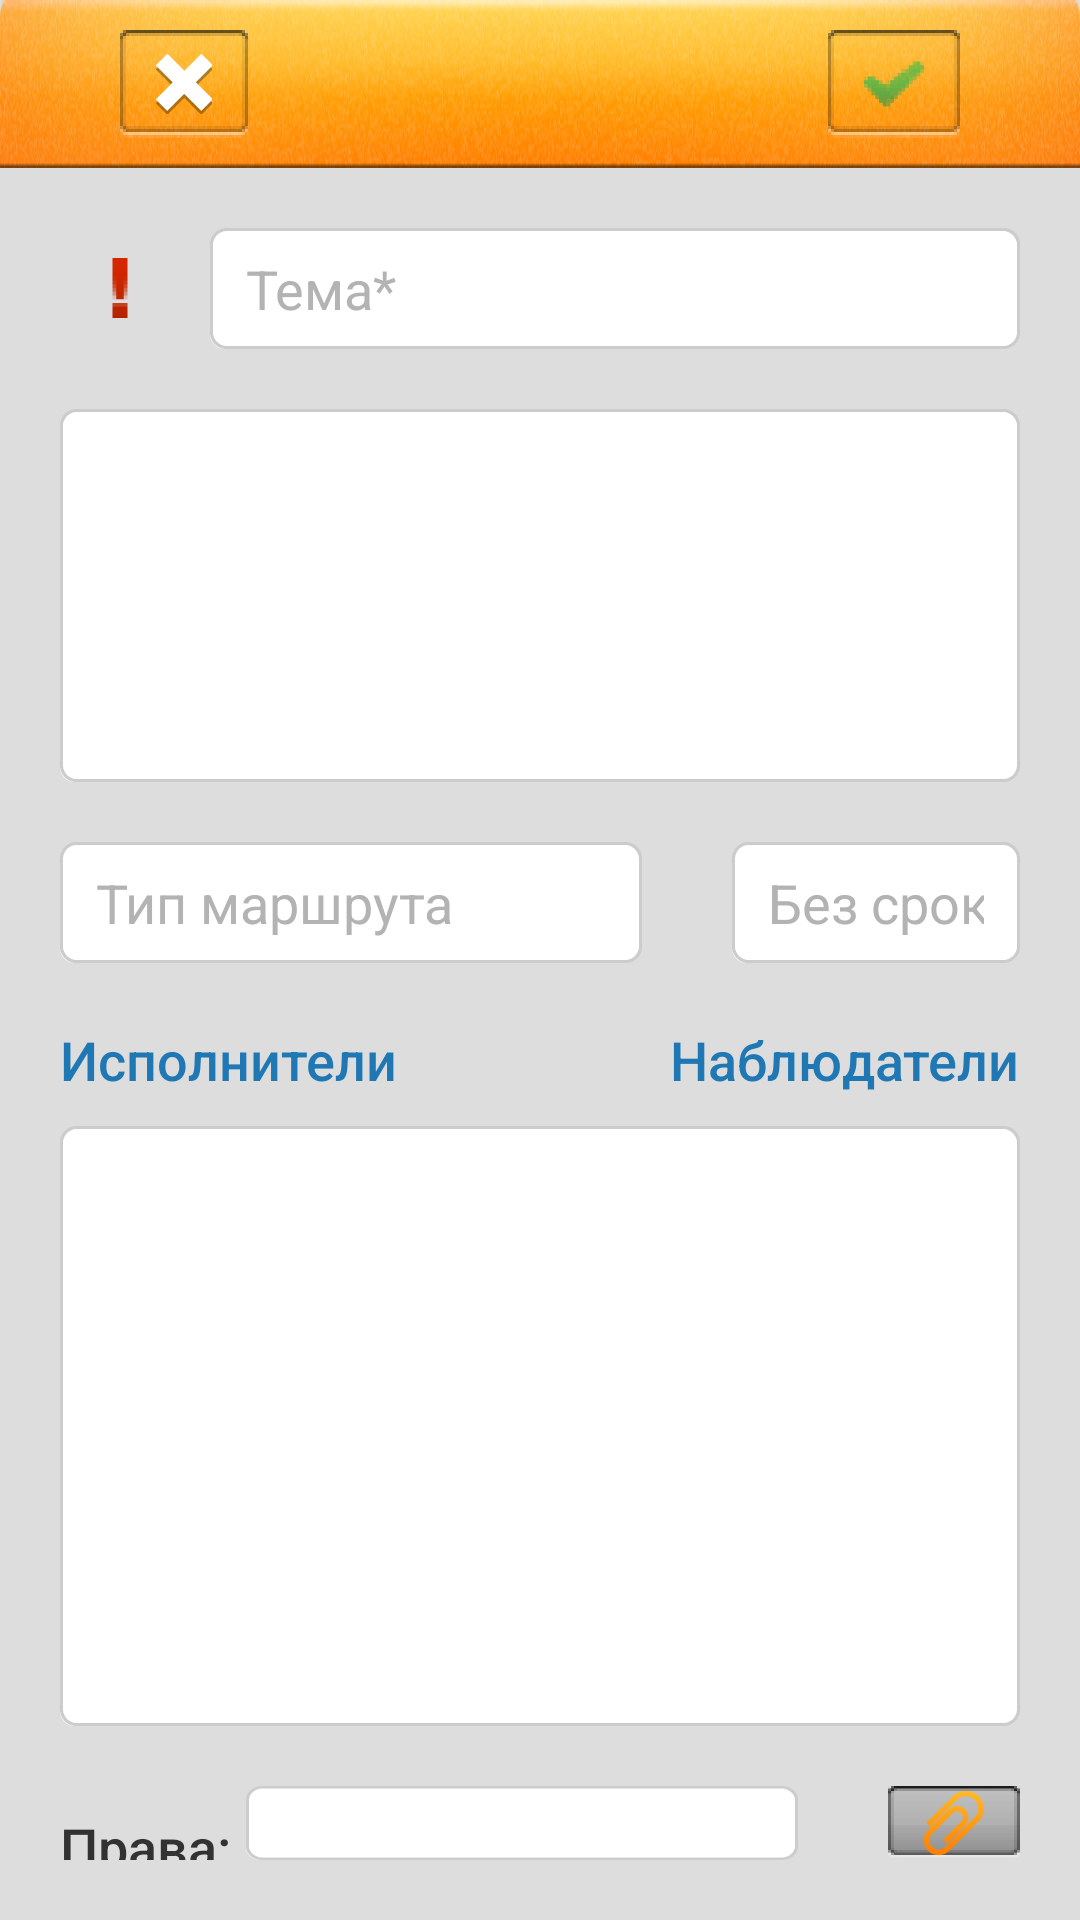

Icons on this 1080x1920 Android screen, each with the point to tap as [x,y]:
attachment: [954,1820]
cancel: [184,84]
importance: [120,288]
